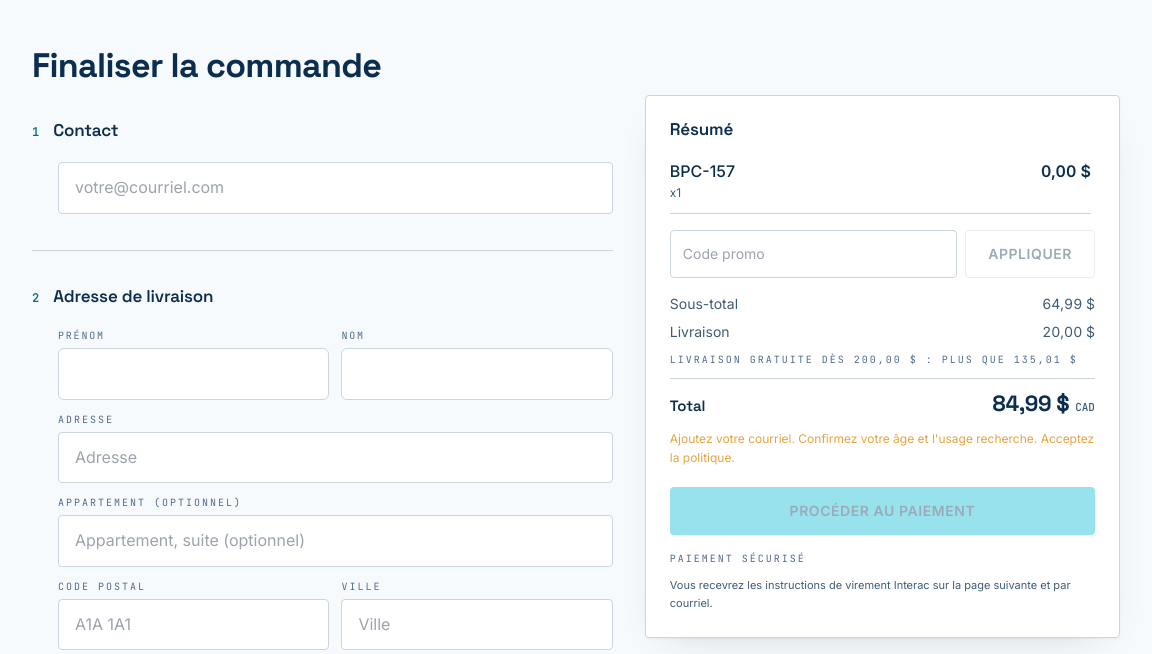
Test case: demande l appartement au lieu de reproposer la meme adresse
Type "123 rue Saint-Denis" into the field with test id "shipping-line1" at {"x": 335, "y": 457}, box [58,432,613,483]
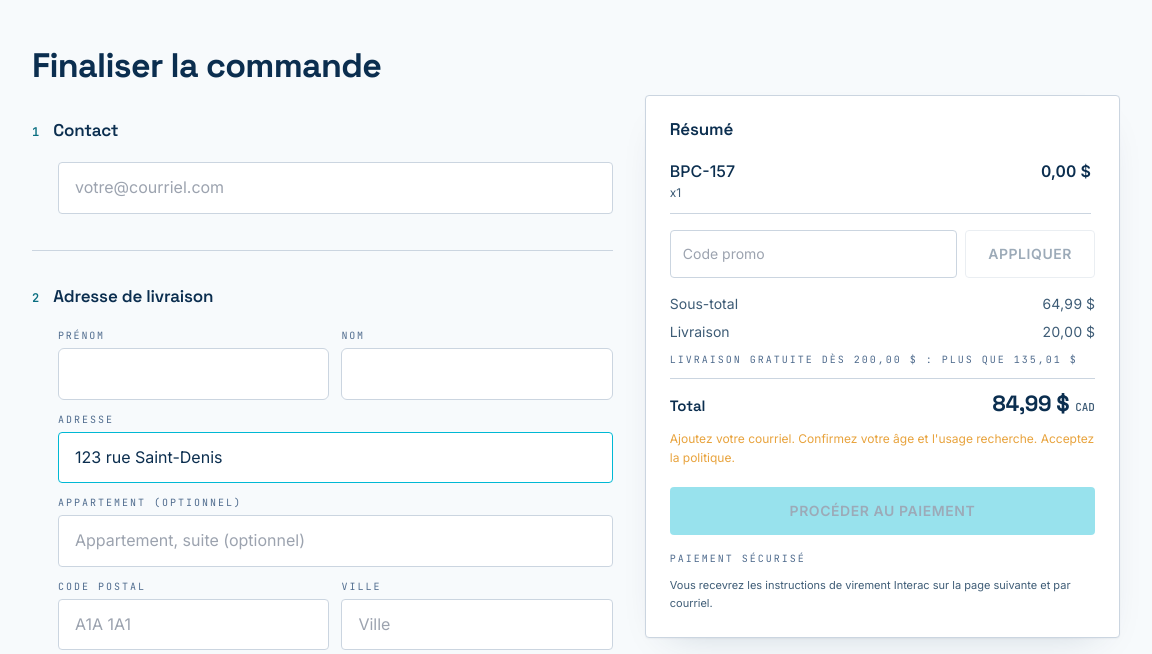
Type "Montreal" into the field with test id "shipping-city" at {"x": 477, "y": 625}, box [341,599,613,650]
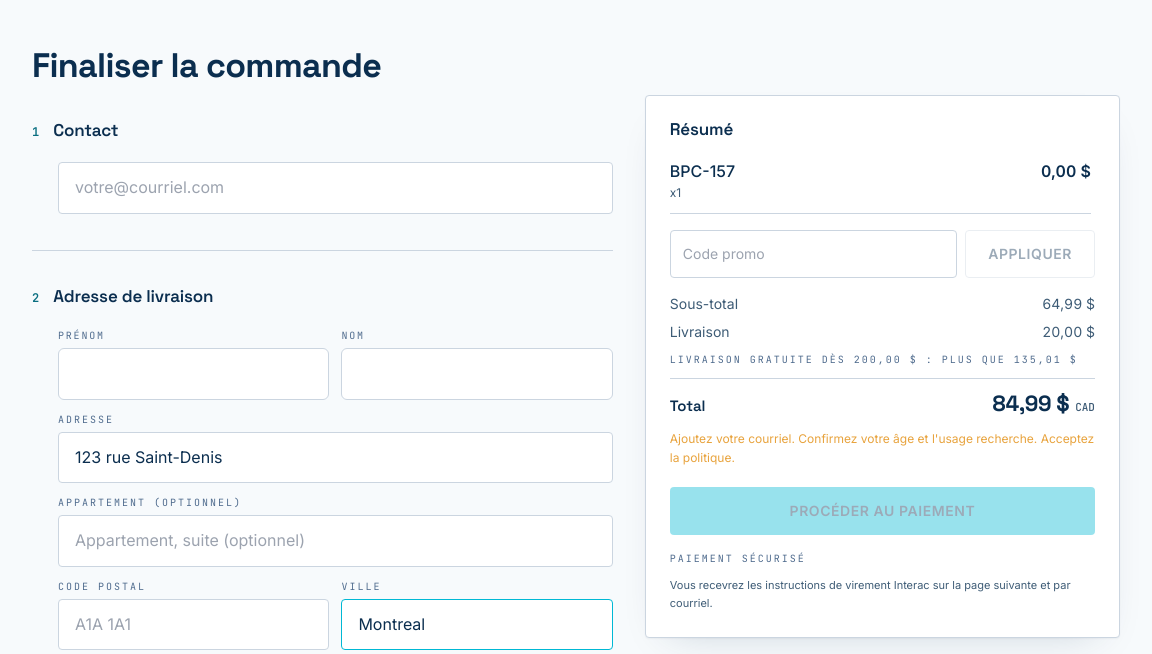
Type "H2X1Y4" into the field with test id "shipping-postal" at {"x": 194, "y": 625}, box [58,599,329,650]
(page scrolled)
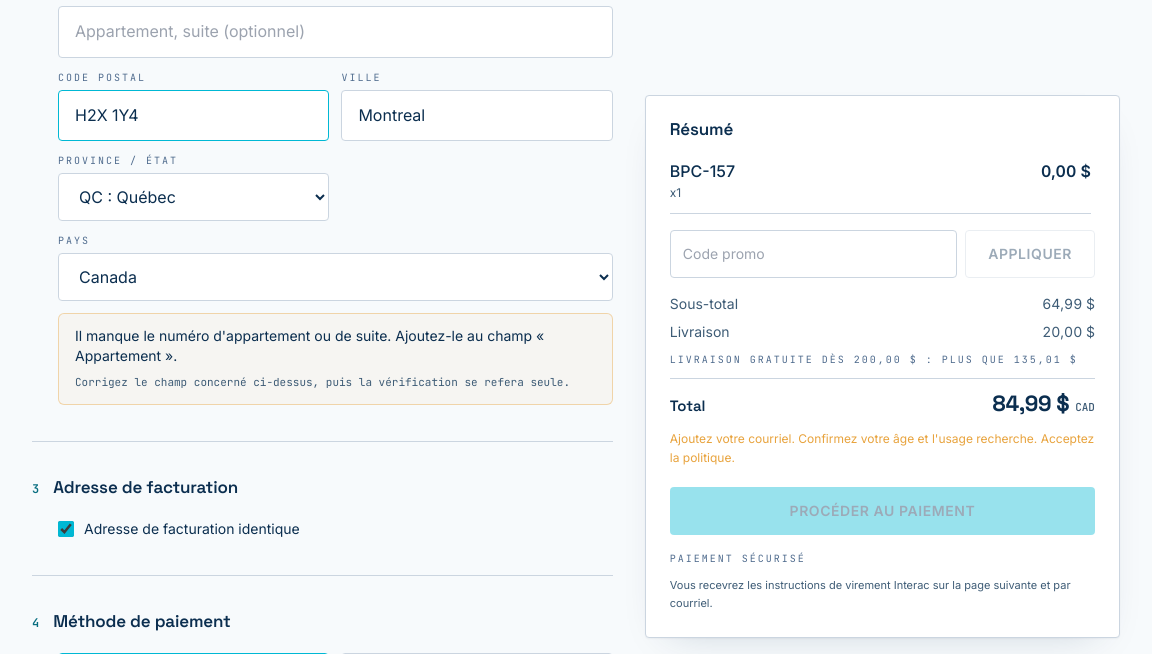
Result: the element with test id "adresse-a-corriger" shows "numéro d'appartement" at [75,327,544,364]
